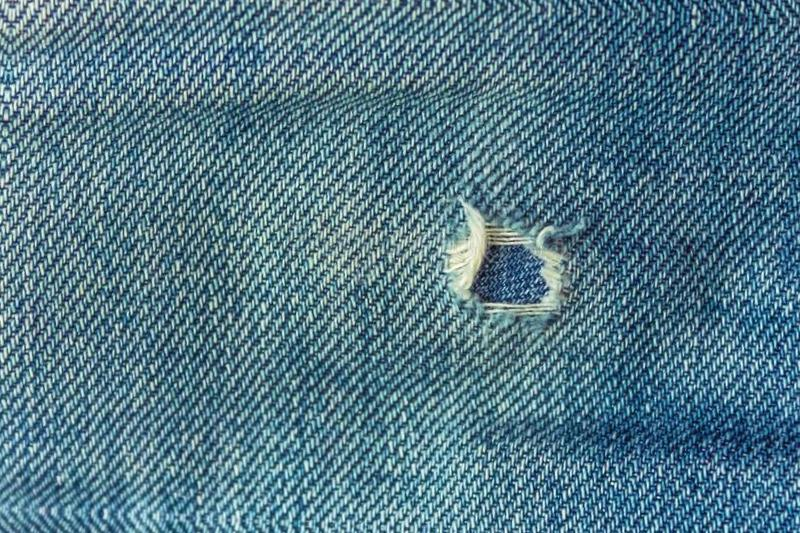hole: (454, 217, 575, 325)
